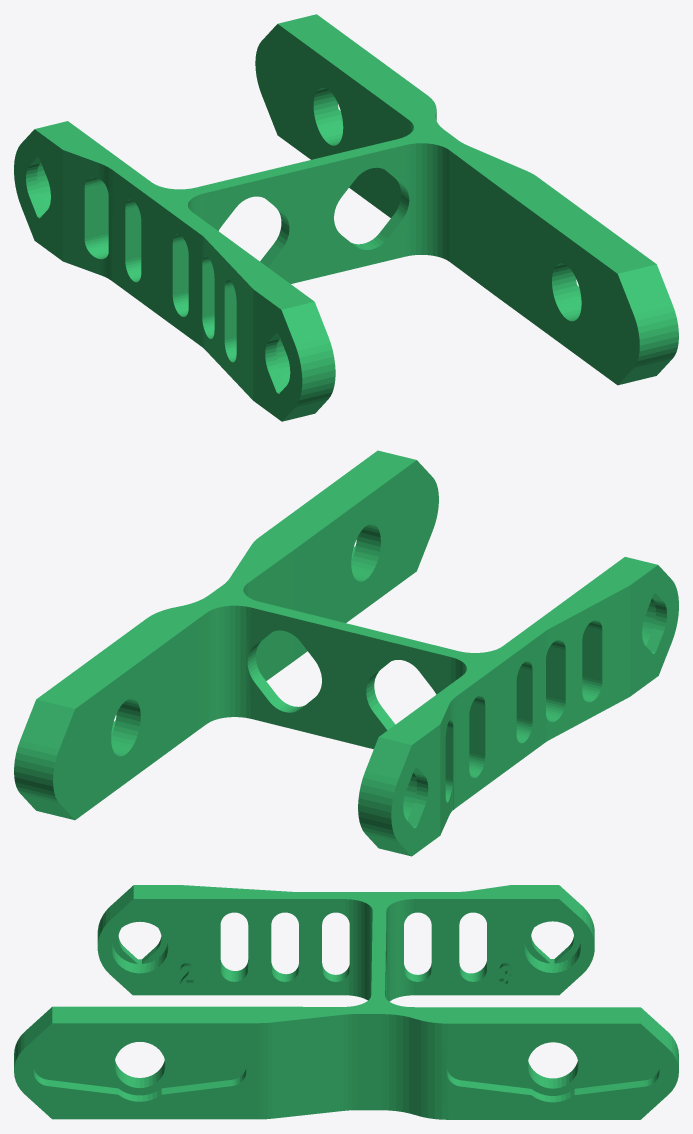
The picture shows the model from 3 angles, top to bottom: view 1: azimuth 30°, elevation 25°; view 2: azimuth 150°, elevation 25°; view 3: azimuth 270°, elevation 25°; orthographic projection. The views are drawn at different scales.
Visible parts, largest first — view 1: Link2.stl; view 2: Link2.stl; view 3: Link2.stl.
Part boxes in pixels (x1,y1,x2,y2): Link2.stl: (14, 14, 678, 421); Link2.stl: (14, 450, 678, 856); Link2.stl: (14, 885, 678, 1119).
Bounding box in the file's own units: 59.3 × 19.2 × 120.
